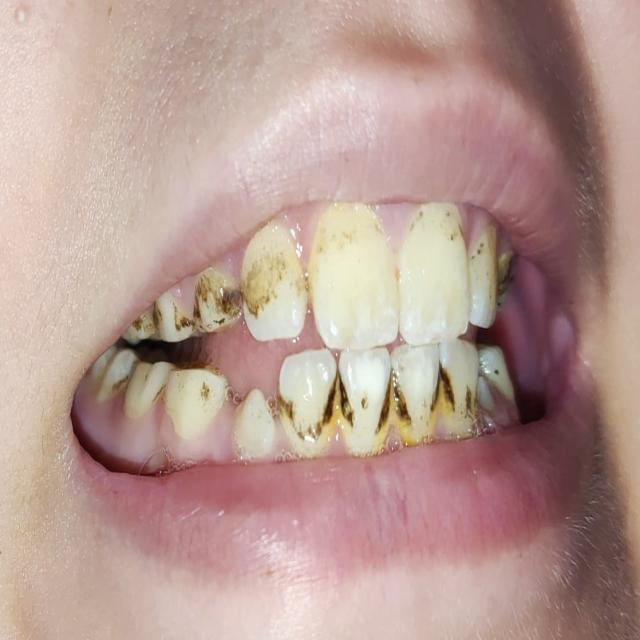tooth: (310, 208, 402, 350), (396, 207, 471, 338), (236, 251, 308, 342), (273, 363, 346, 445), (438, 330, 480, 445), (340, 353, 388, 451), (392, 342, 440, 440), (189, 268, 245, 332)
